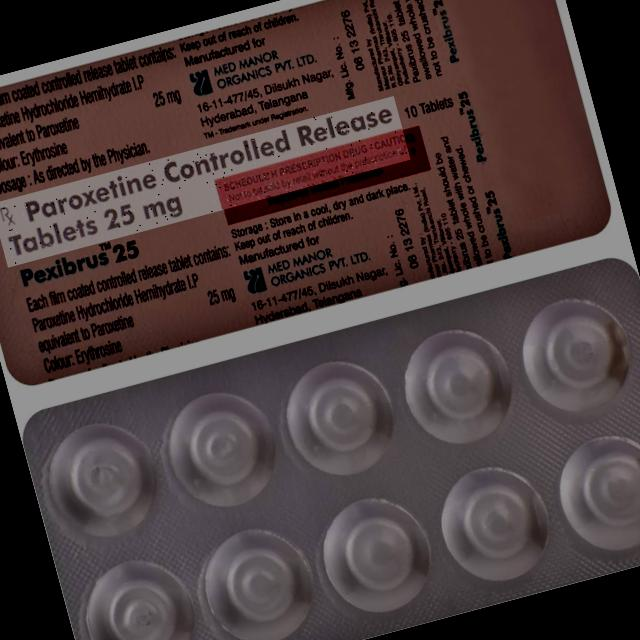Medicine-name: (1, 99, 401, 266)
